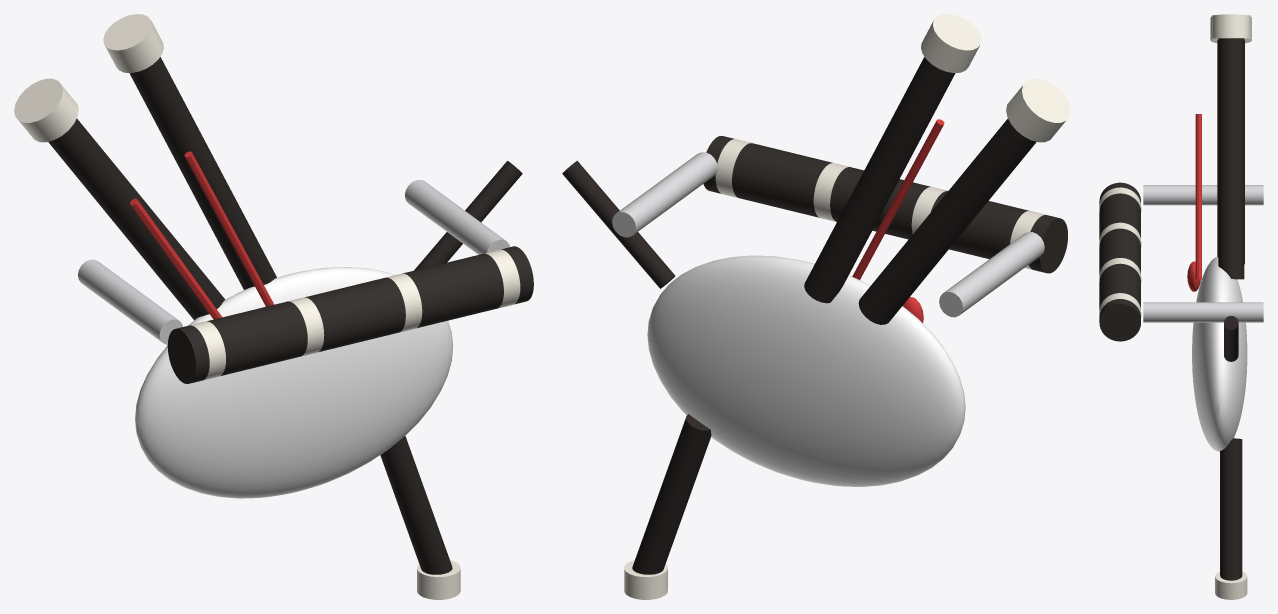
The picture shows the model from 3 angles, left to right: view 1: azimuth 30°, elevation 25°; view 2: azimuth 150°, elevation 25°; view 3: azimuth 270°, elevation 25°; orthographic projection. The views are drawn at different scales.
Parts seen in each view (by area): view 1: bagpipe_default; view 2: bagpipe_default; view 3: bagpipe_default.
Part boxes in pixels (bbox=[...]): bagpipe_default: bbox=[14, 14, 533, 599]; bagpipe_default: bbox=[562, 14, 1070, 599]; bagpipe_default: bbox=[1099, 14, 1263, 599].
Bounding box in the file's own units: 0.9218 × 1.13 × 0.3552.
